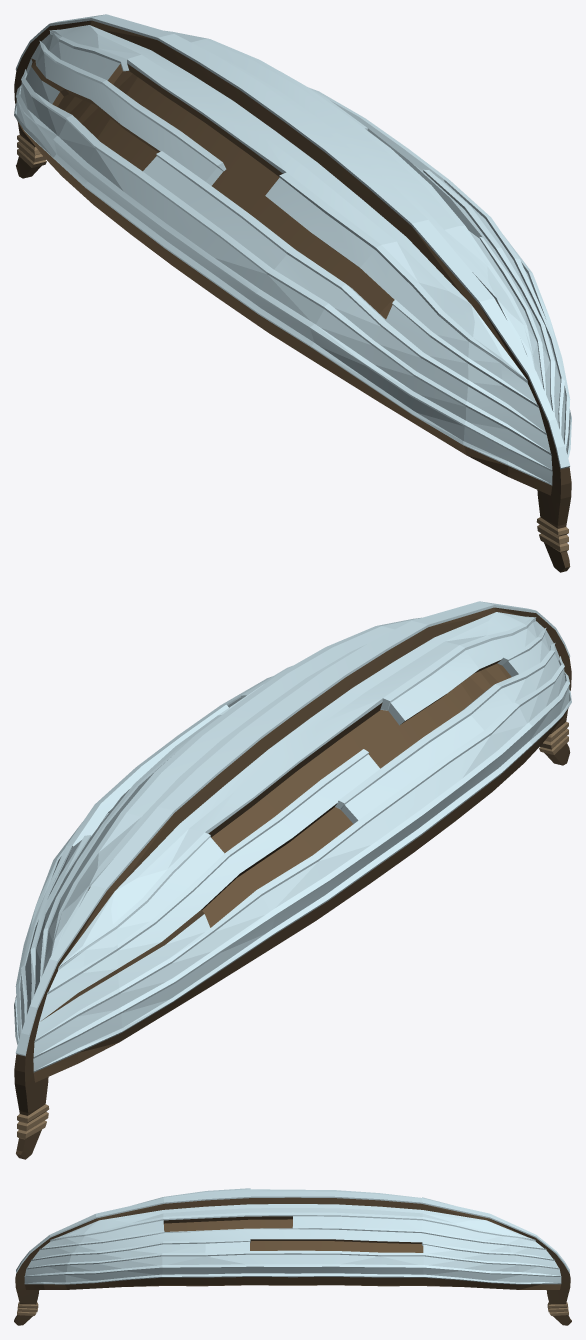
Rendered from Barco_Roto.glb.
3 views of the same model, one above another, from view 1: azimuth 30°, elevation 25°; view 2: azimuth 150°, elevation 25°; view 3: azimuth 270°, elevation 25° (orthographic). The views are drawn at different scales.
Parts seen in each view (by area): view 1: SM_Prop_Boat_Broken_01_Snow; view 2: SM_Prop_Boat_Broken_01_Snow; view 3: SM_Prop_Boat_Broken_01_Snow.
Boxes of the visible parts, bbox=[...] form: SM_Prop_Boat_Broken_01_Snow: bbox=[14, 14, 571, 572]; SM_Prop_Boat_Broken_01_Snow: bbox=[14, 601, 571, 1159]; SM_Prop_Boat_Broken_01_Snow: bbox=[14, 1188, 571, 1325].
Size of the model in its own units: 2.48 by 2.34 by 9.02.
1 material, 1 textured.
